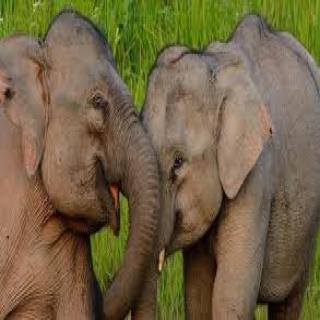Elephant: (136, 15, 320, 320), (0, 5, 162, 320)
